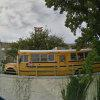Bus: (13, 39, 97, 76)
